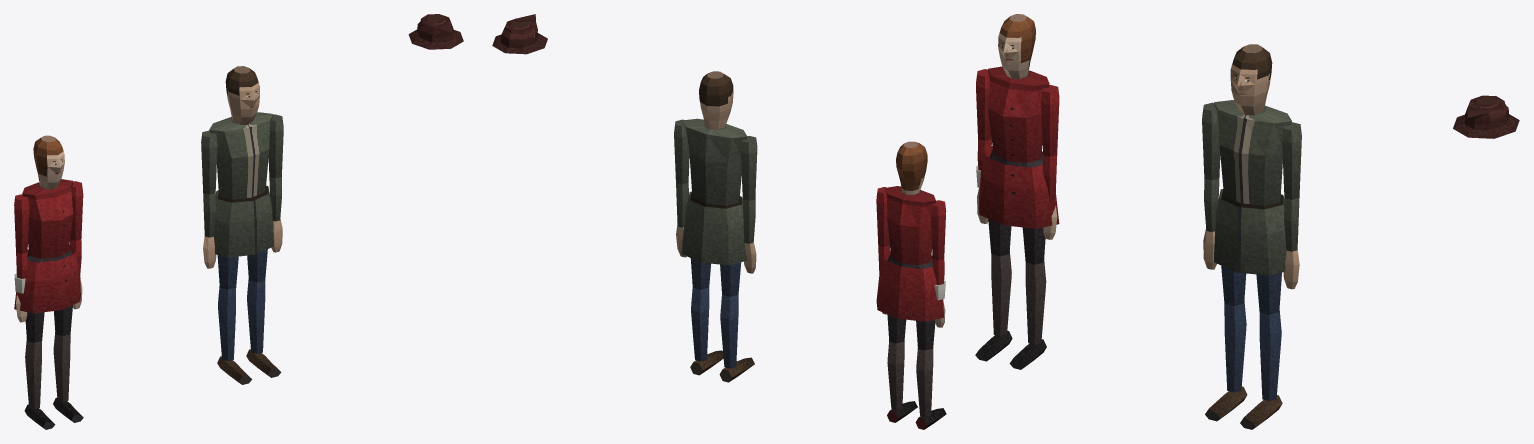
The model's file is People.fbx.
The picture shows the model from 3 angles, left to right: view 1: azimuth 30°, elevation 25°; view 2: azimuth 150°, elevation 25°; view 3: azimuth 330°, elevation 25°; orthographic projection. The views are drawn at different scales.
Parts seen in each view (by area): view 1: M_UpperTorso, M_CoatSkirt, F_UpperTorso, F_CoatSkirt, M_Head, F_Head, M_LeftLowerLeg, M_RightLowerLeg, F_LeftLowerLeg, F_RightLowerLeg, M_RightUpperArm, Acc_RainHat (+11 smaller); view 2: M_UpperTorso, M_CoatSkirt, F_CoatSkirt, F_UpperTorso, M_Head, F_Head, M_RightLowerLeg, M_LeftLowerLeg, F_RightLowerLeg, F_LeftLowerLeg, M_RightUpperArm, M_LeftUpperArm (+12 smaller); view 3: M_UpperTorso, M_CoatSkirt, F_UpperTorso, F_CoatSkirt, M_Head, F_Head, M_RightLowerLeg, M_LeftLowerLeg, F_RightLowerLeg, F_LeftLowerLeg, M_LeftUpperArm, Acc_RainHat (+16 smaller).
Boxes of the visible parts, bbox=[...] form: M_UpperTorso: bbox=[209, 112, 273, 199]; M_CoatSkirt: bbox=[214, 185, 273, 257]; F_UpperTorso: bbox=[22, 179, 73, 258]; F_CoatSkirt: bbox=[14, 244, 80, 313]; M_Head: bbox=[225, 66, 259, 124]; F_Head: bbox=[33, 135, 64, 189]; M_LeftLowerLeg: bbox=[247, 280, 265, 353]; M_RightLowerLeg: bbox=[218, 286, 235, 360]; F_LeftLowerLeg: bbox=[53, 332, 70, 401]; F_RightLowerLeg: bbox=[25, 339, 41, 408]; M_RightUpperArm: bbox=[201, 130, 217, 194]; Acc_RainHat: bbox=[408, 14, 463, 49]; M_UpperTorso: bbox=[682, 118, 747, 205]; M_CoatSkirt: bbox=[682, 191, 747, 265]; F_CoatSkirt: bbox=[876, 251, 944, 321]; F_UpperTorso: bbox=[884, 186, 935, 265]; M_Head: bbox=[699, 71, 733, 129]; F_Head: bbox=[896, 141, 927, 194]; M_RightLowerLeg: bbox=[720, 295, 738, 368]; M_LeftLowerLeg: bbox=[691, 287, 709, 361]; F_RightLowerLeg: bbox=[916, 348, 933, 416]; F_LeftLowerLeg: bbox=[887, 341, 904, 409]; M_RightUpperArm: bbox=[741, 136, 757, 200]; M_LeftUpperArm: bbox=[674, 119, 689, 184]; M_UpperTorso: bbox=[1214, 100, 1291, 205]; M_CoatSkirt: bbox=[1214, 189, 1286, 275]; F_UpperTorso: bbox=[988, 66, 1049, 162]; F_CoatSkirt: bbox=[978, 146, 1059, 228]; M_Head: bbox=[1230, 44, 1272, 115]; F_Head: bbox=[998, 14, 1035, 79]; M_RightLowerLeg: bbox=[1224, 300, 1246, 392]; M_LeftLowerLeg: bbox=[1259, 310, 1281, 400]; F_RightLowerLeg: bbox=[991, 251, 1011, 336]; F_LeftLowerLeg: bbox=[1025, 260, 1046, 344]; M_LeftUpperArm: bbox=[1282, 122, 1301, 199]; Acc_RainHat: bbox=[1453, 95, 1519, 138].
Bounding box in the file's own units: 294 × 189 × 37.22.
6 materials, 6 textured.
